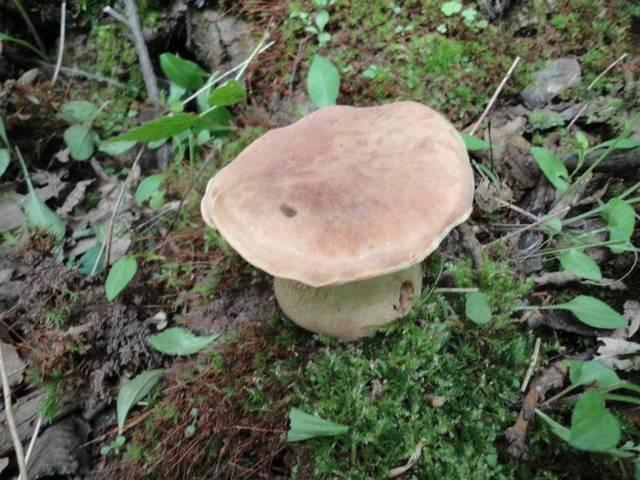Non-edible Mushroom: (198, 98, 476, 343)
